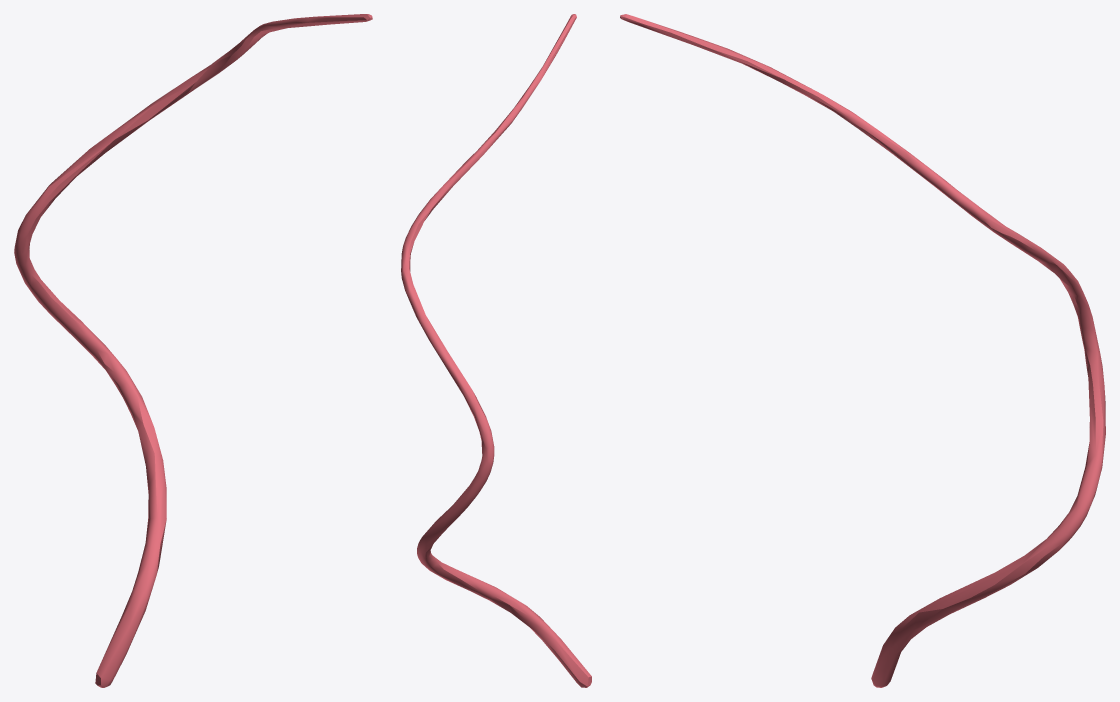
File: fma50664_fj1720.glb
3 renders of one model, left to right at view 1: azimuth 30°, elevation 25°; view 2: azimuth 150°, elevation 25°; view 3: azimuth 270°, elevation 25°, orthographic. The views are drawn at different scales.
Parts seen in each view (by area): view 1: FMA50664_FJ1720; view 2: FMA50664_FJ1720; view 3: FMA50664_FJ1720.
Part boxes in pixels (x1,y1,x2,y2): FMA50664_FJ1720: [14, 14, 372, 687]; FMA50664_FJ1720: [401, 14, 591, 687]; FMA50664_FJ1720: [620, 14, 1105, 687].
Size of the model in its own units: 0.00811 by 0.0299 by 0.0177.
